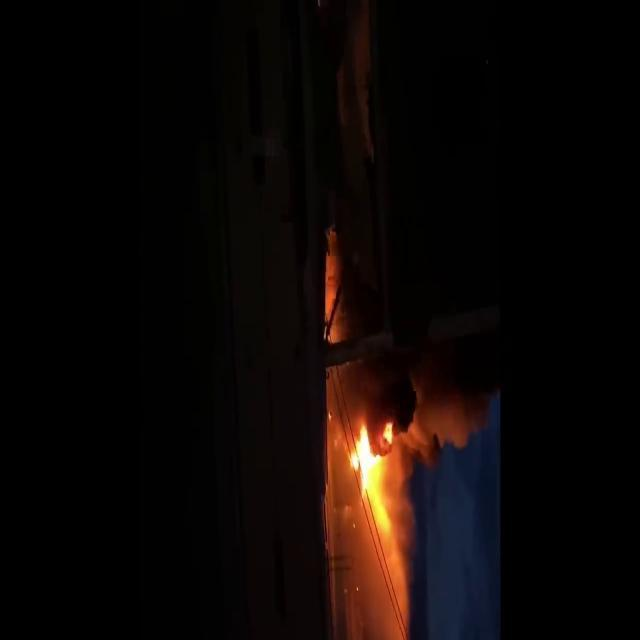Fire: (347, 409, 395, 521)
Smoke: (388, 344, 482, 548)
